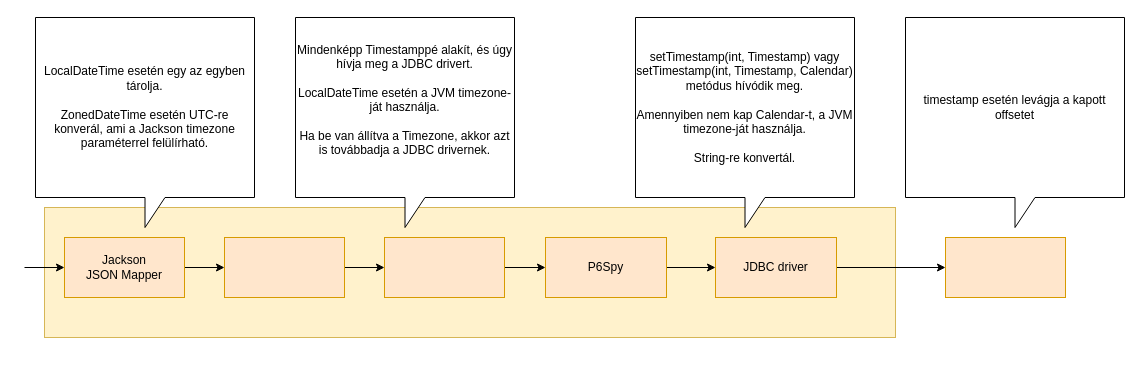
The diagram is 1142 pixels wide and 376 high, and some of its shapes have lost their labels. The shapes that lost their labels are listed below. From the top down, each one's box as (x1, y1, x2, y2) in pixels, then its label:
(224, 236, 344, 298): Entity attribútum
(384, 236, 504, 298): Hibernate
(44, 206, 896, 338): JVM
(944, 236, 1066, 298): Adatbázis
